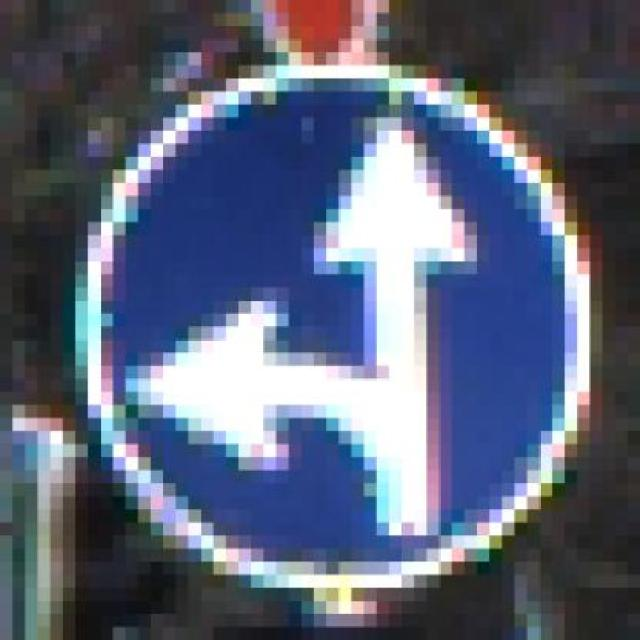Go straight or turn left: (50, 65, 627, 601)
